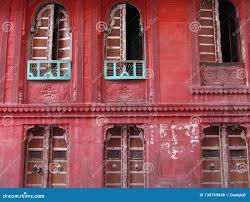door: (101, 117, 130, 189), (29, 3, 55, 79), (197, 2, 222, 78), (103, 3, 127, 78), (224, 122, 248, 195), (201, 124, 226, 194), (22, 126, 48, 188), (129, 123, 150, 193), (50, 125, 70, 193), (57, 6, 72, 78)
